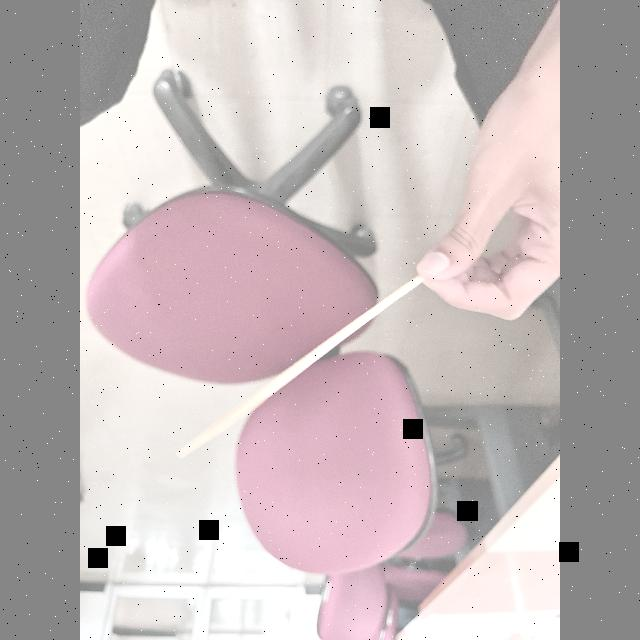stick: (168, 274, 420, 462)
